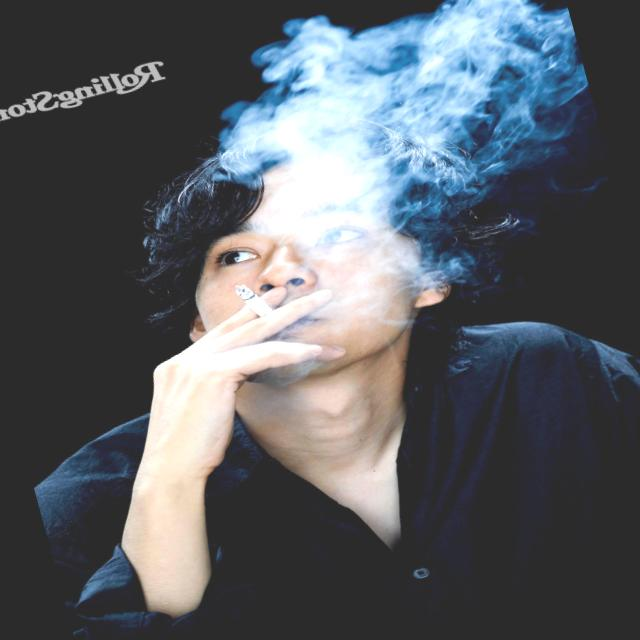cigarette: (222, 250, 284, 344)
